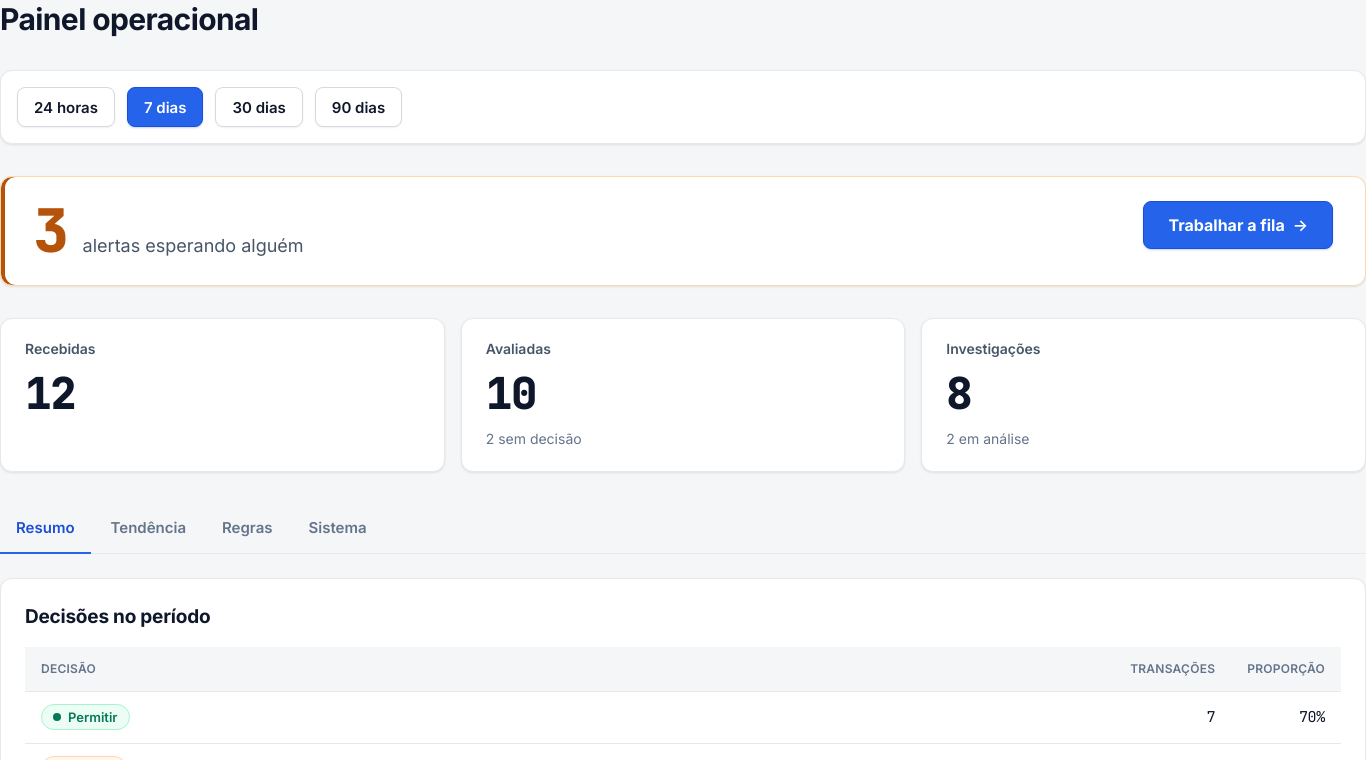
Test: painel operacional › avisa quando há evento esperando publicação
Click the tab "Sistema".
click(338, 529)  # box top-left (292, 504), bottom-right (383, 554)
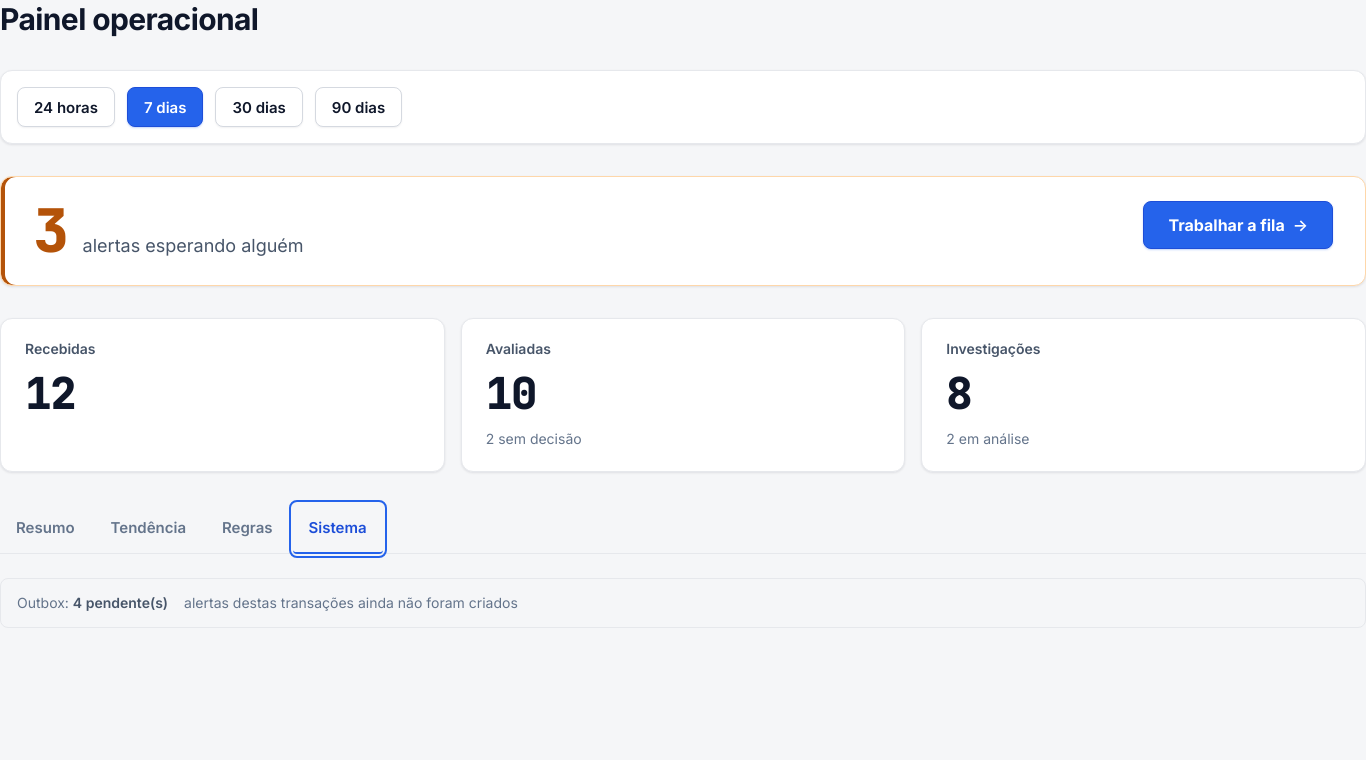
Expected: the text "alertas destas transações ainda não foram criados" is shown, top-left (184, 591), bottom-right (518, 615)
